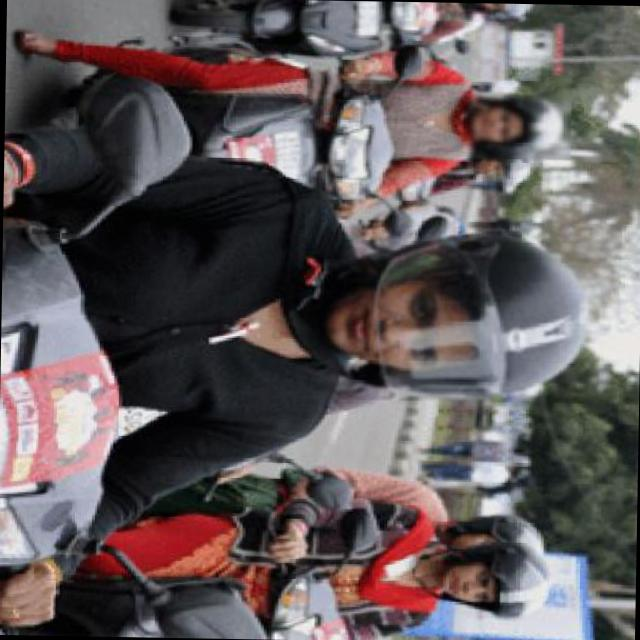With Helmet: (320, 233, 611, 412), (424, 537, 562, 627), (464, 92, 570, 160), (448, 510, 546, 566)
